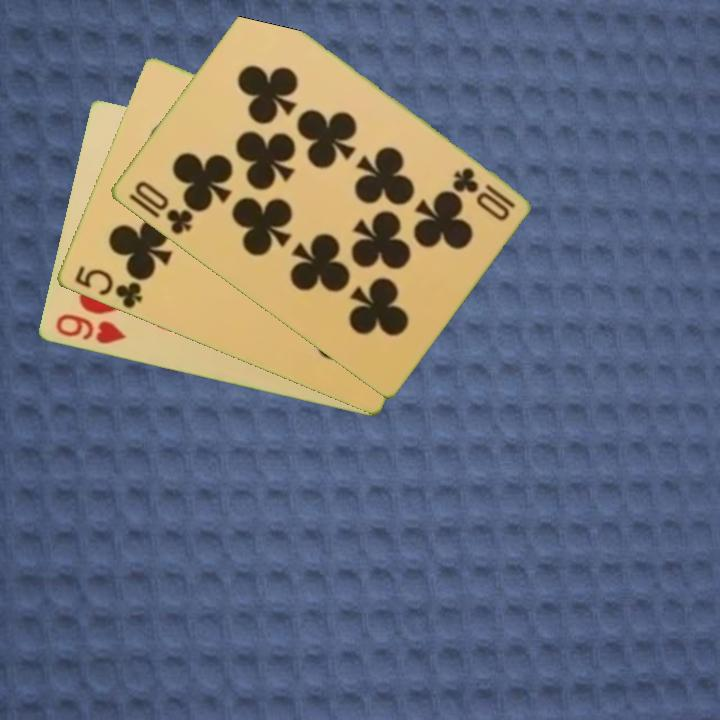10c: (130, 177, 196, 238), (448, 163, 518, 212)
5c: (70, 262, 145, 312)
9h: (51, 310, 128, 348)
